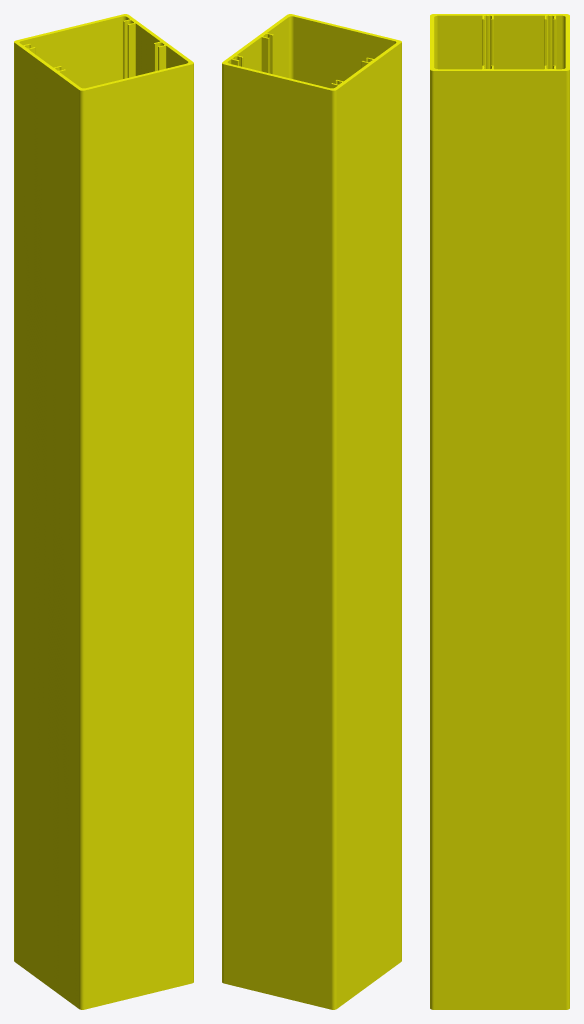
Rendered from post.glb.
3 views of the same model, side by side, from view 1: azimuth 30°, elevation 25°; view 2: azimuth 150°, elevation 25°; view 3: azimuth 270°, elevation 25° (orthographic). The views are drawn at different scales.
Parts seen in each view (by area): view 1: Pfosten_Premium__1_1; view 2: Pfosten_Premium__1_1; view 3: Pfosten_Premium__1_1.
Boxes of the visible parts, x1,y1,x2,y2 form: Pfosten_Premium__1_1: [14, 14, 193, 1009]; Pfosten_Premium__1_1: [222, 14, 401, 1009]; Pfosten_Premium__1_1: [430, 14, 569, 1009].
Bounding box in the file's own units: 0.13 × 1 × 0.135.
Materials: 1 (1 with a texture image).
